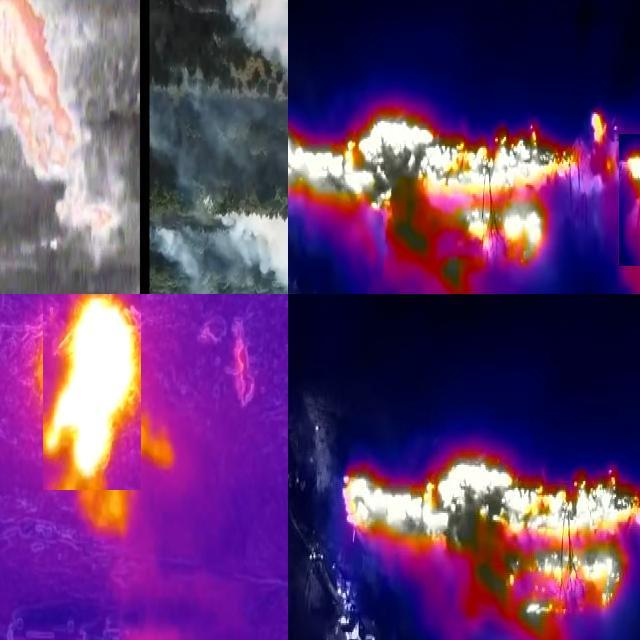fire: (289, 107, 614, 295), (341, 458, 640, 640), (44, 295, 142, 491), (1, 1, 81, 181), (56, 194, 118, 240), (620, 135, 640, 267)
